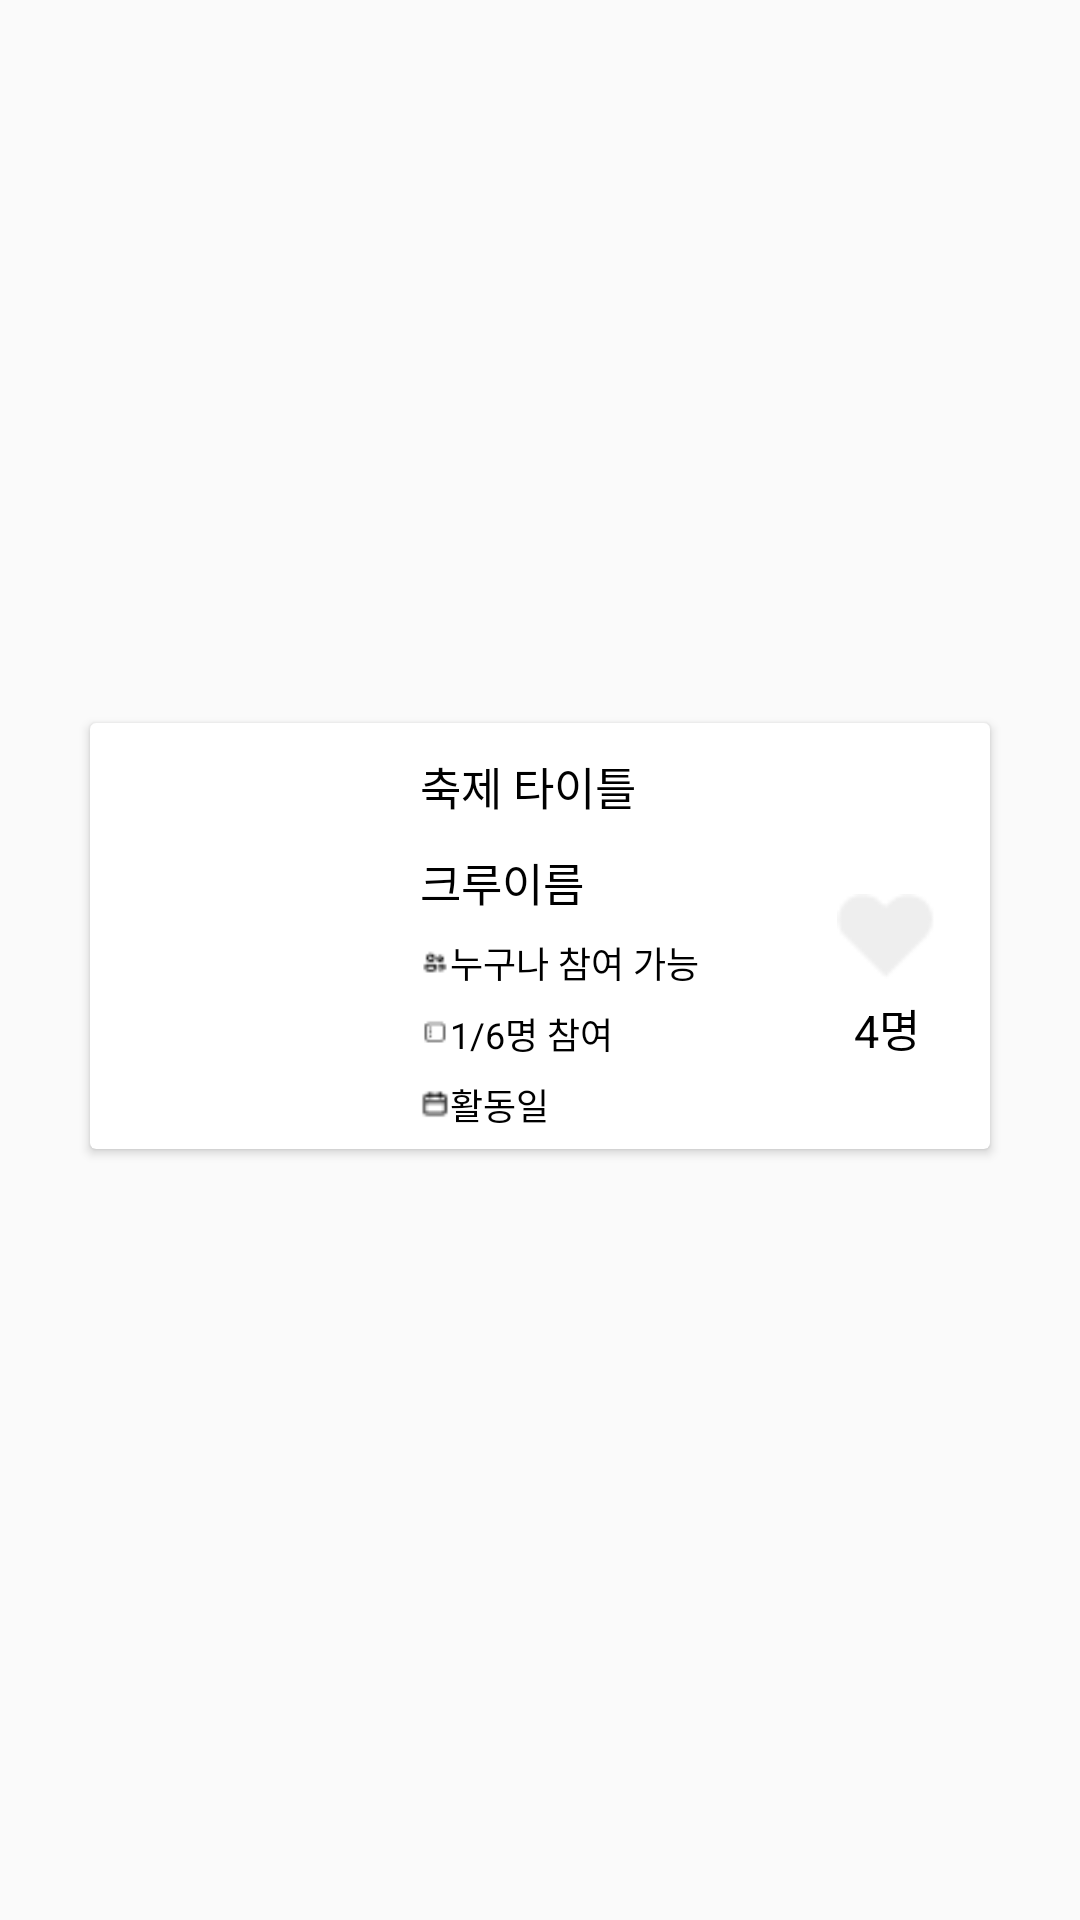

Screen size 1080 × 1920. Icon name, then its box in pixels as (x1, y1, x2, y2):
fluent people: (423, 952, 447, 973)
uil calender: (422, 1091, 448, 1117)
